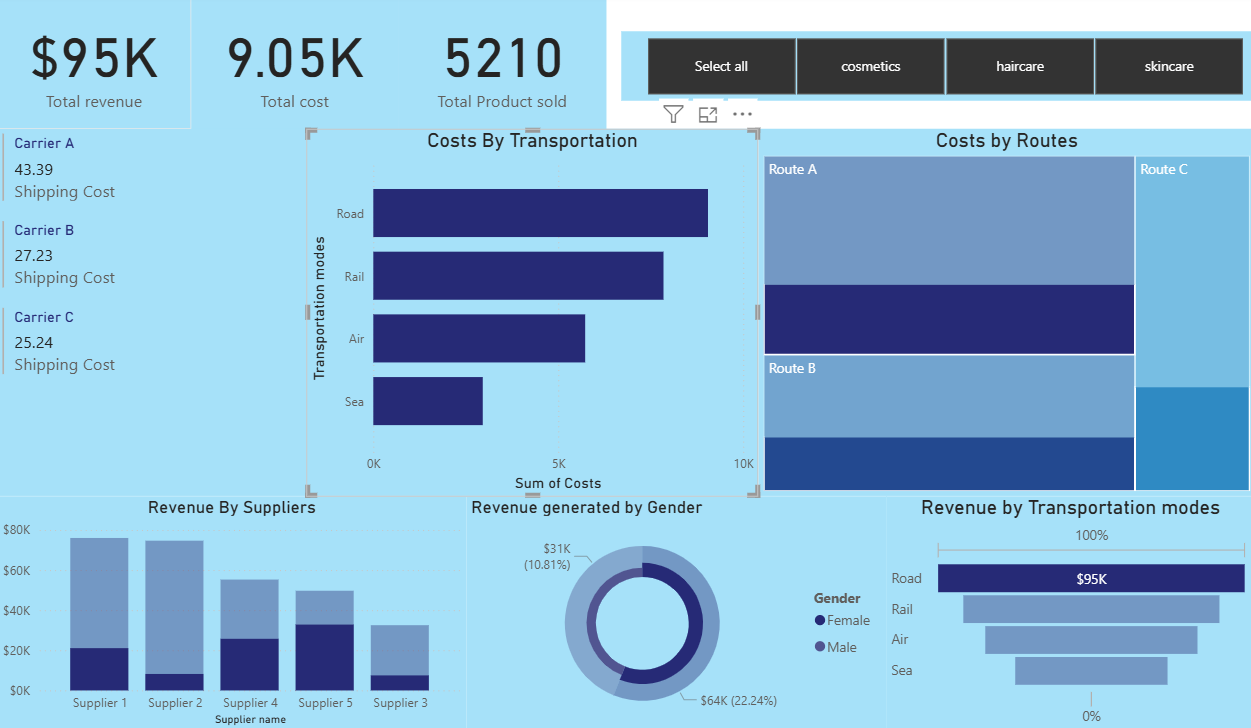

Layout of this report page (visuals, bound fields, positions):
{"tool":"powerbi","page":{"name":"Page 1","canvas":[1280,720],"ordinal":0},"visuals":[{"type":"card","fields":{"Values":["Sum(supply_chain_data.Revenue generated)"]},"box":[10,0,191.3,131.4],"z":0},{"type":"card","fields":{"Values":["Sum(supply_chain_data.Costs)"]},"box":[201.3,0,203,131.4],"z":1000},{"type":"card","fields":{"Values":["Sum(supply_chain_data.Number of products sold)"]},"box":[414.3,0,193,149.7],"z":2000},{"type":"multiRowCard","fields":{"Values":["supply_chain_data.Shipping carriers","Sum(supply_chain_data.Shipping costs)"]},"box":[11.6,222.9,302.8,267.9],"z":3000},{"type":"clusteredBarChart","title":" Costs By Transportation","fields":{"Category":["supply_chain_data.Transportation modes"],"Y":["Sum(supply_chain_data.Costs)"]},"box":[329.4,244.6,427.6,191.3],"z":4000},{"type":"treemap","title":"Costs by Routes","fields":{"Group":["supply_chain_data.Routes"],"Values":["Sum(supply_chain_data.Costs)"]},"box":[811.9,222.9,442.6,232.9],"z":5000},{"type":"donutChart","title":" Revenue generated by Gender","fields":{"Category":["supply_chain_data.Gender"],"Y":["Sum(supply_chain_data.Revenue generated)"]},"box":[500.8,510.8,381,209.6],"z":6000},{"type":"funnel","title":"Revenue by Transportation modes","fields":{"Category":["supply_chain_data.Transportation modes"],"Y":["Sum(supply_chain_data.Revenue generated)"]},"box":[898.4,510.8,344.4,209.6],"z":7000},{"type":"clusteredColumnChart","title":"Revenue By Suppliers","fields":{"Y":["Sum(supply_chain_data.Revenue generated)"],"Category":["supply_chain_data.Supplier name"]},"box":[28.3,490.8,442.6,229.6],"z":8000},{"type":"slicer","fields":{"Values":["supply_chain_data.Product type"]},"box":[622.3,34.9,632.2,68.2],"z":9000}]}

Visuals, with their boxes on the page's 1280x720 design canvas (x1, y1, x2, y2). These are canvas units, not pixel positions in the 1251x728 screenshot, which may show the page scaled, cropped or inside an application window:
card - Sum(supply_chain_data.Revenue generated): select_region(10, 0, 201, 131)
card - Sum(supply_chain_data.Costs): select_region(201, 0, 404, 131)
card - Sum(supply_chain_data.Number of products sold): select_region(414, 0, 607, 150)
multiRowCard - supply_chain_data.Shipping carriers x Sum(supply_chain_data.Shipping costs): select_region(12, 223, 314, 491)
" Costs By Transportation" clusteredBarChart: select_region(329, 245, 757, 436)
"Costs by Routes" treemap: select_region(812, 223, 1254, 456)
" Revenue generated by Gender" donutChart: select_region(501, 511, 882, 720)
"Revenue by Transportation modes" funnel: select_region(898, 511, 1243, 720)
"Revenue By Suppliers" clusteredColumnChart: select_region(28, 491, 471, 720)
slicer - supply_chain_data.Product type: select_region(622, 35, 1254, 103)
